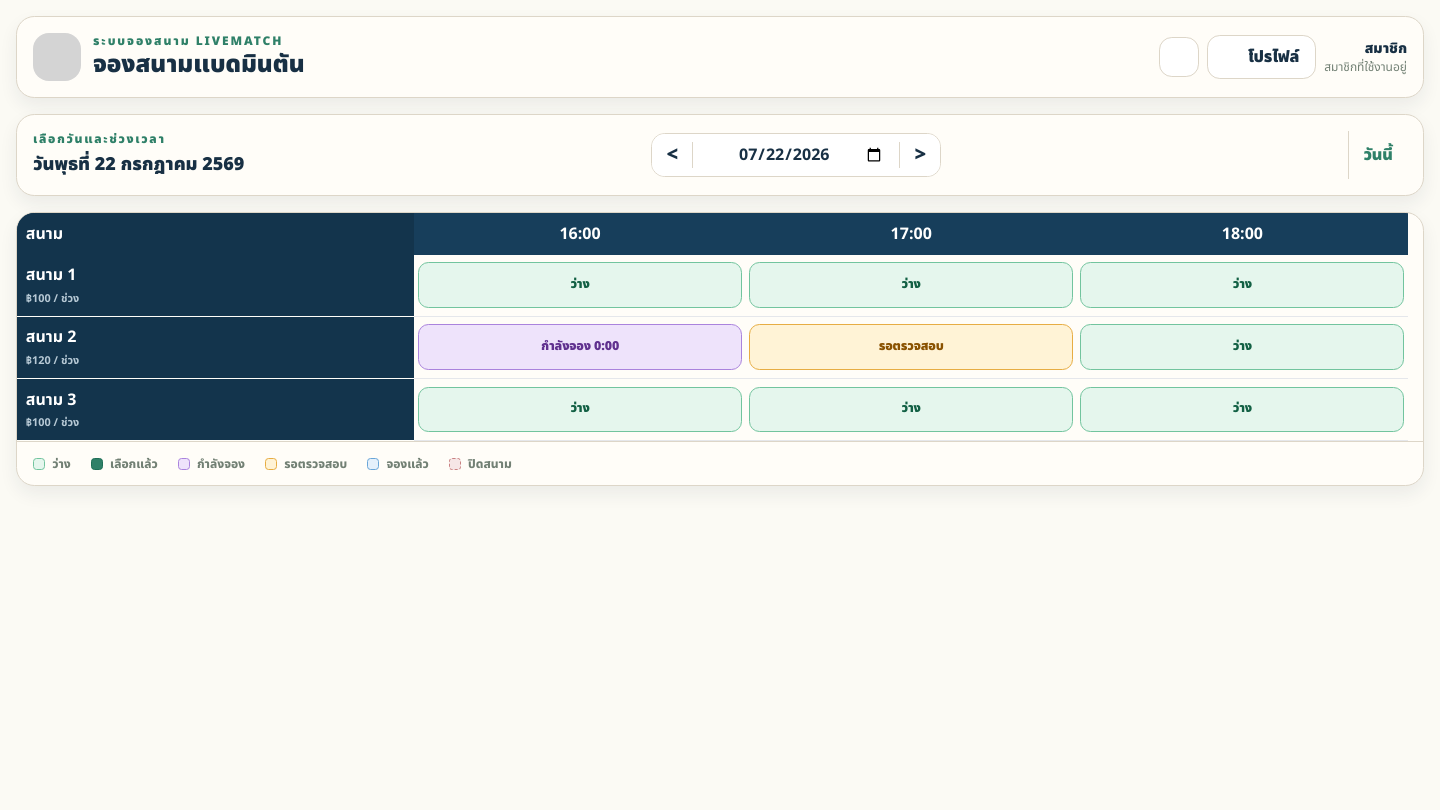
Test: PublicBookingPage › shows a toast and refreshes availability when hold creation loses the race
Click the button with test id "slot-court-1-960". click: (580, 285)
box: top-left (418, 262), bottom-right (742, 308)
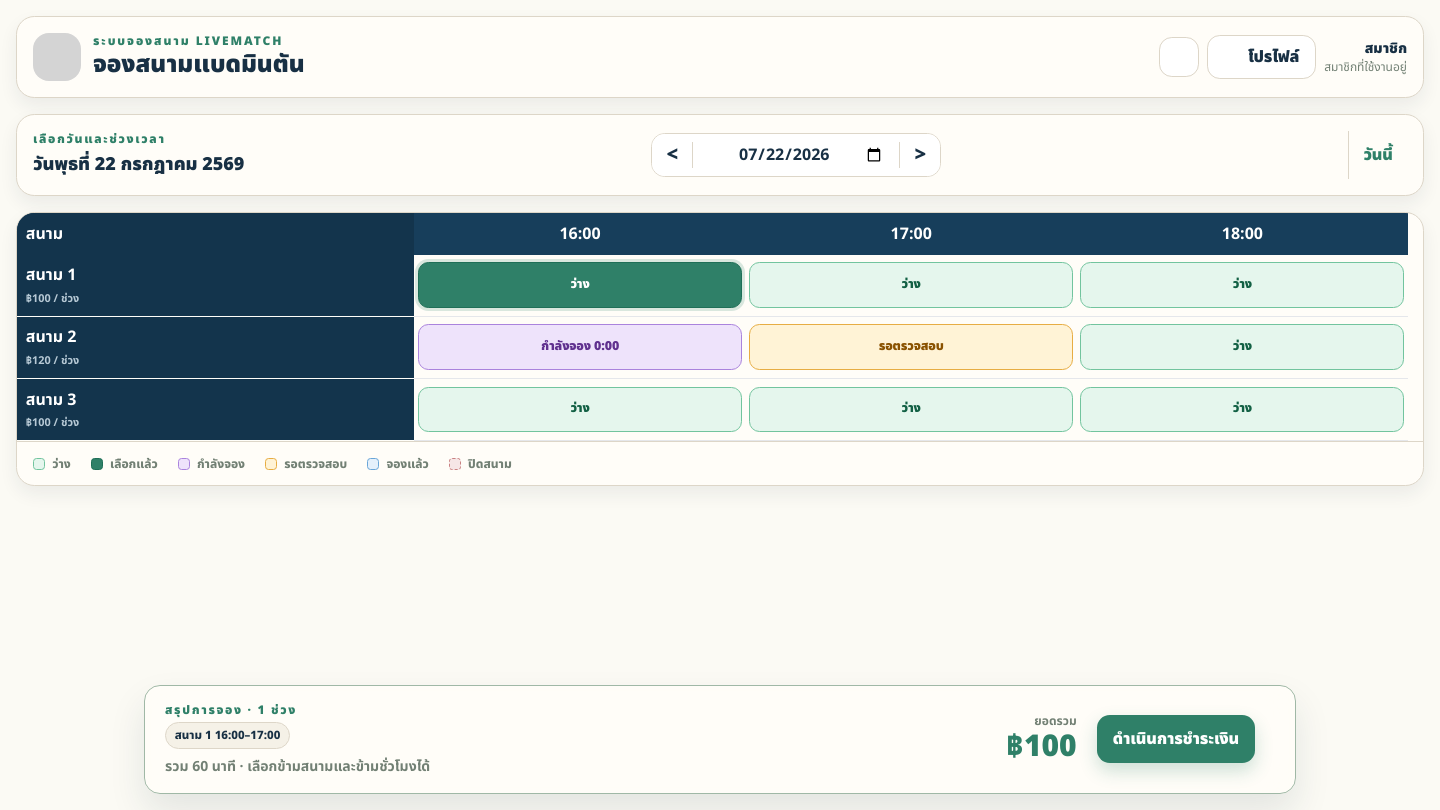
Click the button "ดำเนินการชำระเงิน". click: (1176, 739)
box: top-left (1097, 715), bottom-right (1255, 763)
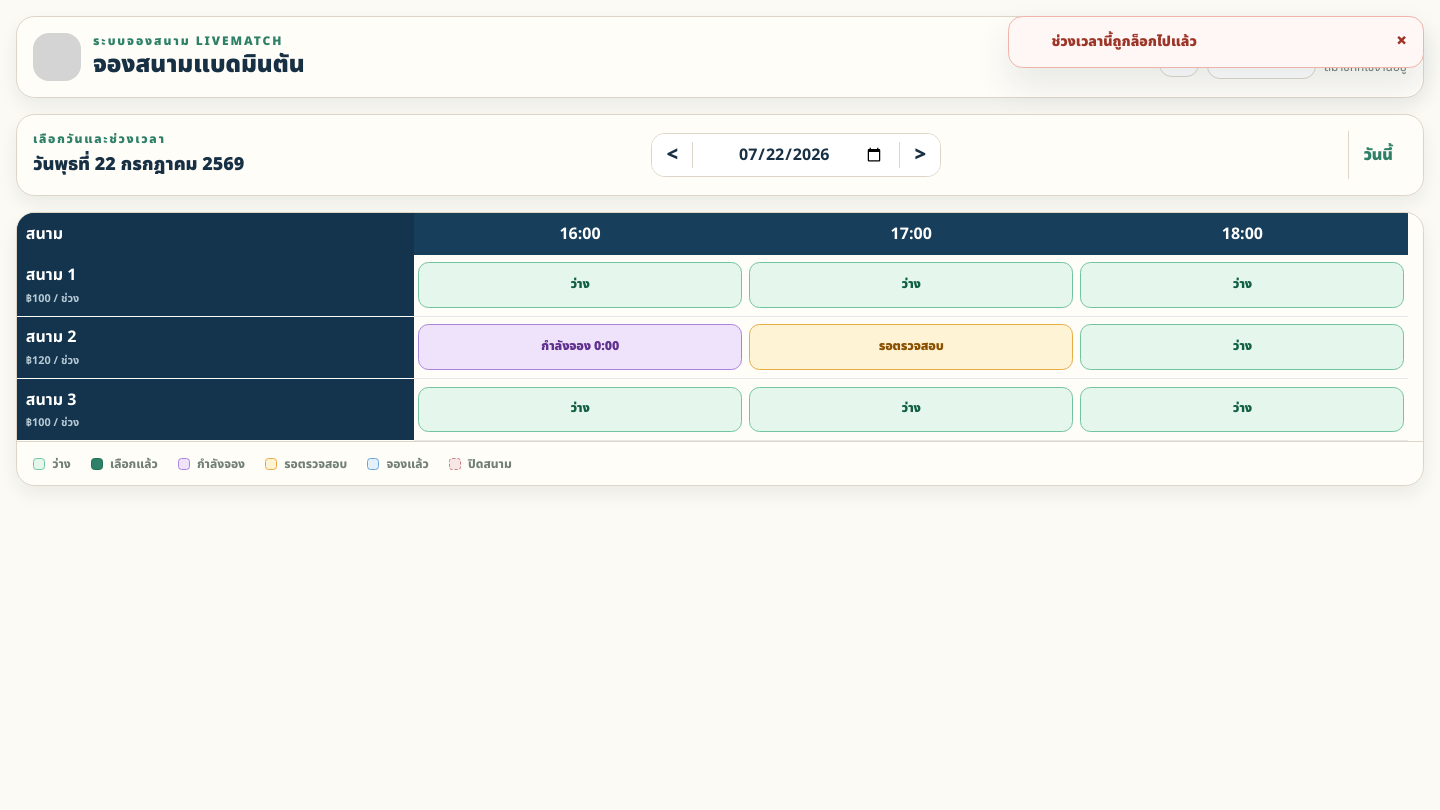
Check: the message with test id "booking-toast" shows "ช่วงเวลานี้ถูกล็อกไปแล้ว", box top-left (1051, 31), bottom-right (1197, 52)
